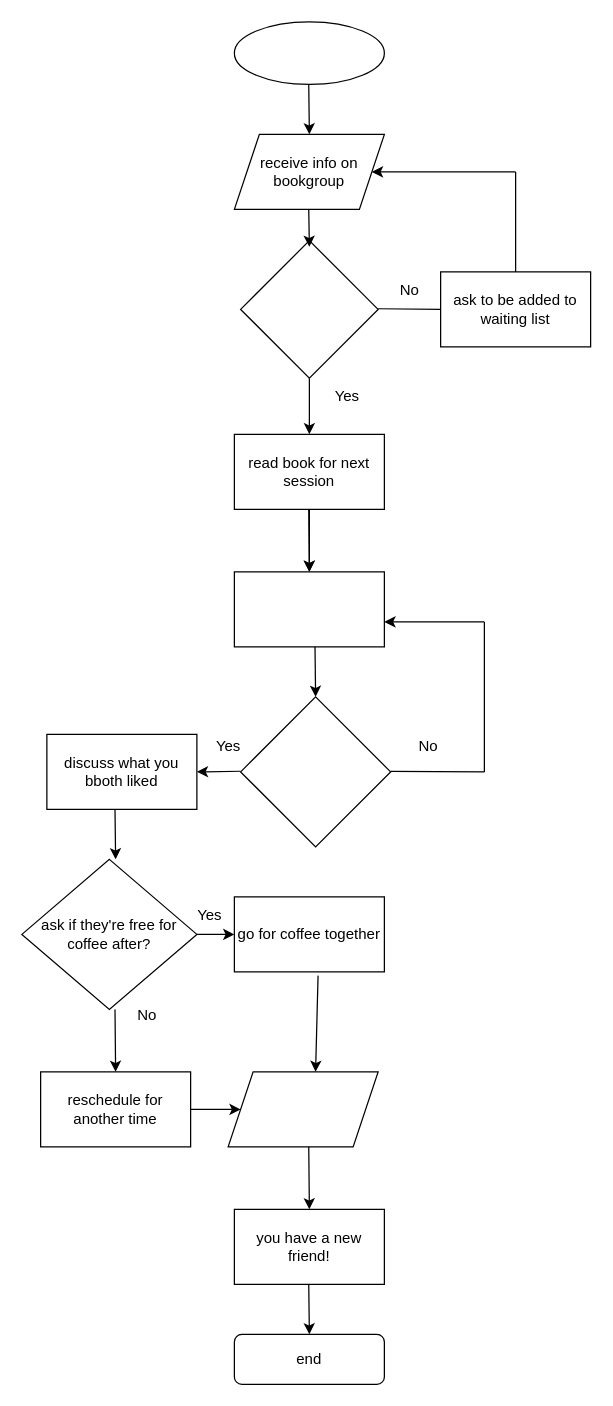
The diagram is 613 pixels wide and 1406 high, and some of its shapes have lost their labels. Each missing label, with the box of its shape:
go to meeting venue and talk to fellow attendees: (233, 571, 384, 647)
person asks if you enjoyed book?: (239, 696, 391, 847)
spaces left?: (239, 239, 378, 378)
start: (233, 21, 384, 84)
take their mobile number: (227, 1071, 378, 1147)
